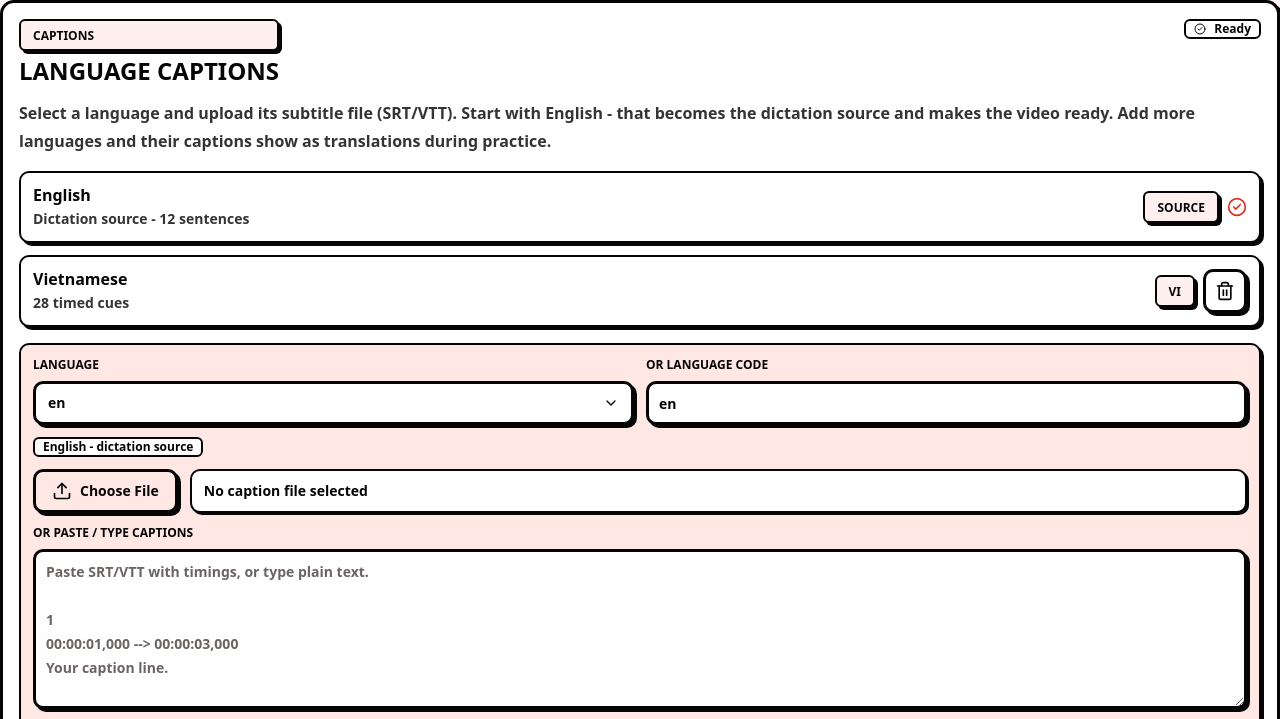
Test: DictationCaptionManager › removes a translation track via the delete API
Click the button named "Remove Vietnamese captions".
click(1225, 291)  # box x1=1203 y1=269 x2=1247 y2=313
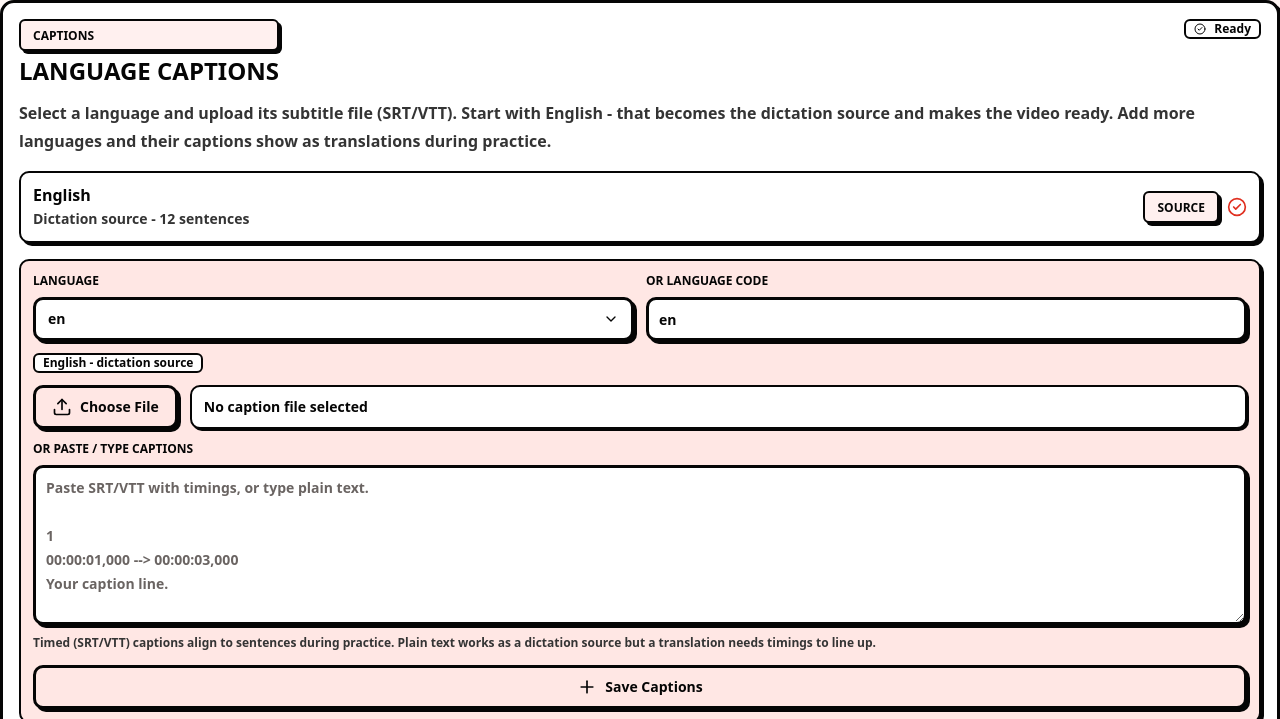
Expected: the button "28 timed cues" is gone
